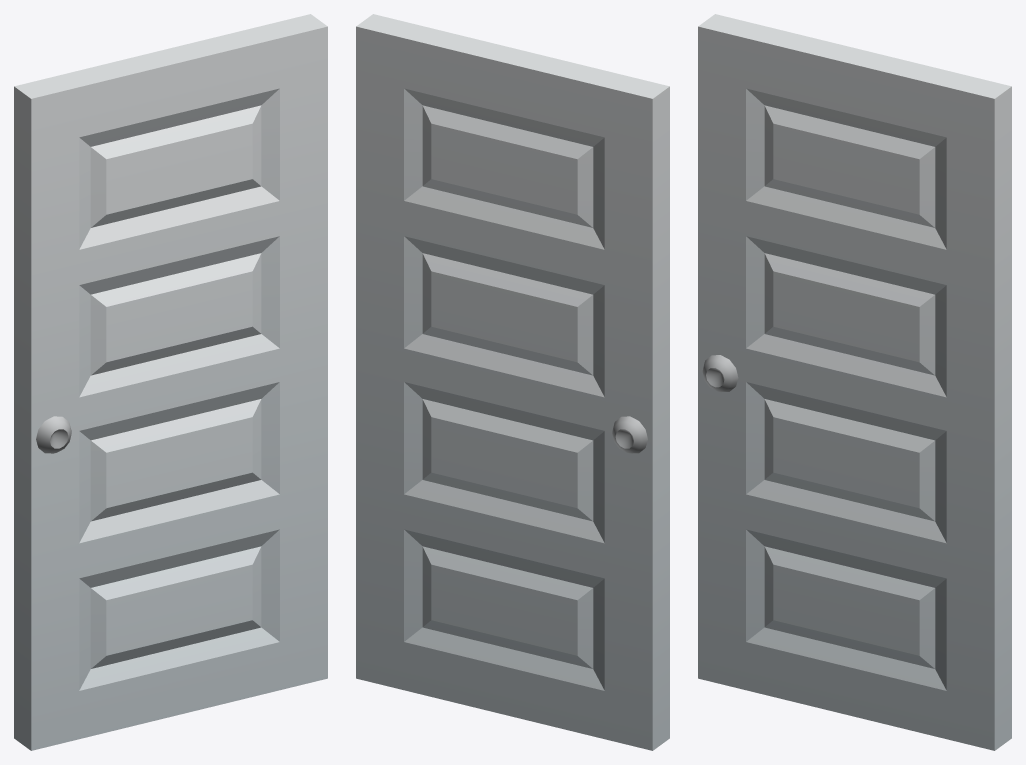
File: Door_White_04.glb
3 renders of one model, left to right at view 1: azimuth 30°, elevation 25°; view 2: azimuth 150°, elevation 25°; view 3: azimuth 330°, elevation 25°, orthographic.
Parts seen in each view (by area): view 1: Door_White_04; view 2: Door_White_04; view 3: Door_White_04.
Boxes of the visible parts, bbox=[...] form: Door_White_04: bbox=[14, 14, 327, 750]; Door_White_04: bbox=[356, 14, 669, 750]; Door_White_04: bbox=[698, 14, 1011, 750].
Bounding box in the file's own units: 1 × 2.1 × 0.1634.
1 material, 1 textured.
